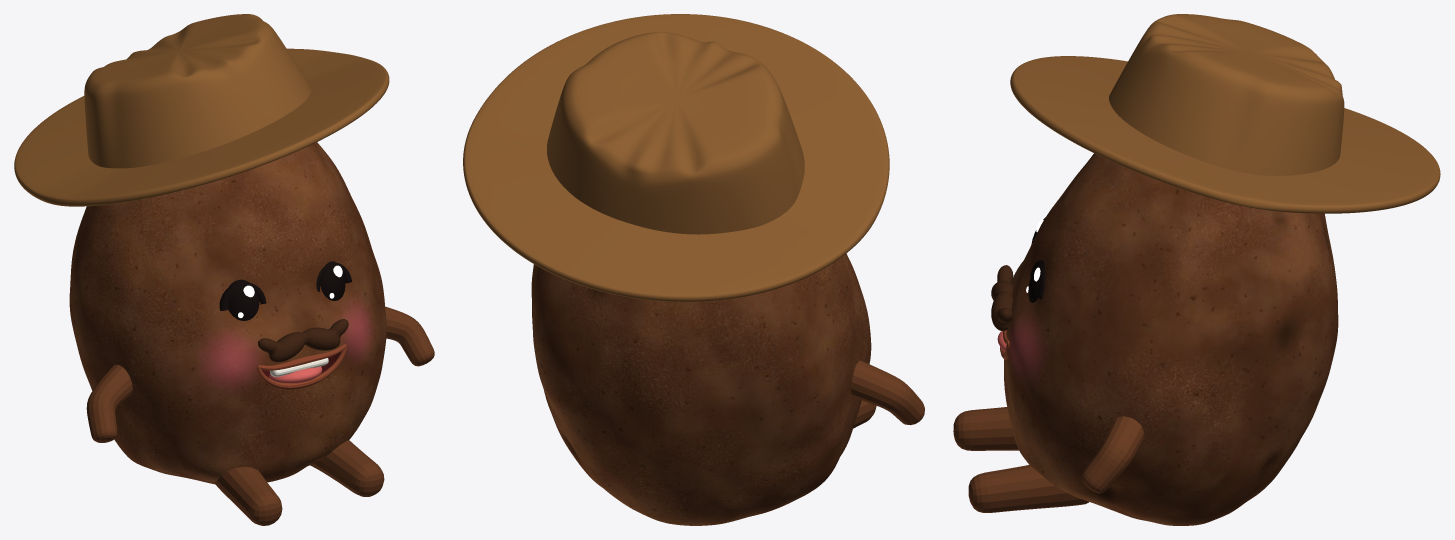
Rendered from potato-jacket.glb.
3 views of the same model, side by side, from view 1: azimuth 30°, elevation 25°; view 2: azimuth 150°, elevation 25°; view 3: azimuth 270°, elevation 25° (orthographic). The views are drawn at different scales.
Visible parts, largest first — view 1: Body, Fedora_Crown, Fedora_Brim, Leg_R, Leg_L, Arm_R, Mustache, Arm_L, Lips, Pupil_R, Pupil_L, Tongue; view 2: Body, Fedora_Brim, Fedora_Crown, Arm_R; view 3: Body, Fedora_Crown, Fedora_Brim, Leg_L, Arm_L, Leg_R, Mustache.
Part boxes in pixels (x1,y1,x2,y2): Body: (69,142,386,484); Fedora_Crown: (84,14,311,168); Fedora_Brim: (14,48,389,206); Leg_R: (214,467,282,525); Leg_L: (310,440,384,496); Arm_R: (86,364,132,442); Mustache: (258,319,348,362); Arm_L: (385,306,434,366); Lips: (257,344,347,389); Pupil_R: (228,279,259,320); Pupil_L: (320,261,345,300); Tongue: (269,366,322,383); Body: (531,253,871,525); Fedora_Brim: (463,14,889,301); Fedora_Crown: (547,32,804,234); Arm_R: (851,360,924,425); Body: (1004,153,1338,525); Fedora_Crown: (1109,14,1344,175); Fedora_Brim: (1010,56,1440,213); Leg_L: (968,465,1088,512); Arm_L: (1081,416,1143,493); Leg_R: (953,407,1018,450); Mustache: (991,265,1013,330).
Size of the model in its own units: 1.55 by 1.82 by 1.71.
10 materials, 1 textured.
